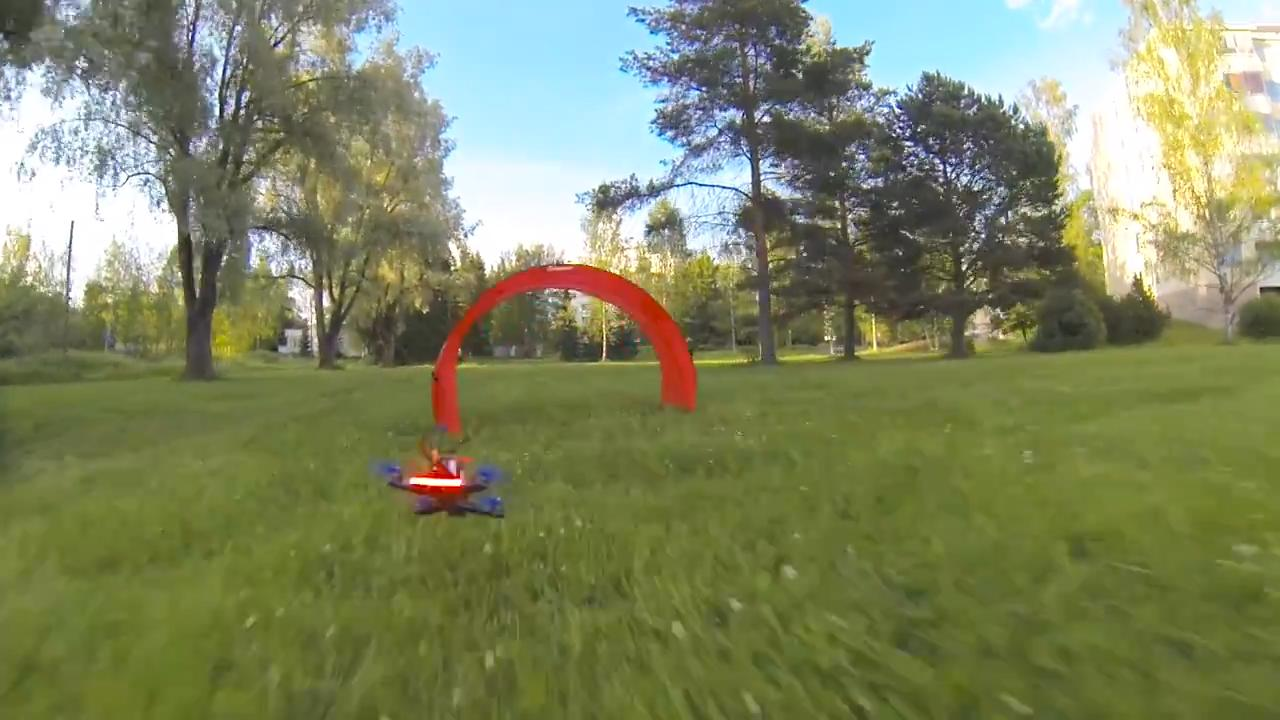gate: (435, 262, 700, 429)
